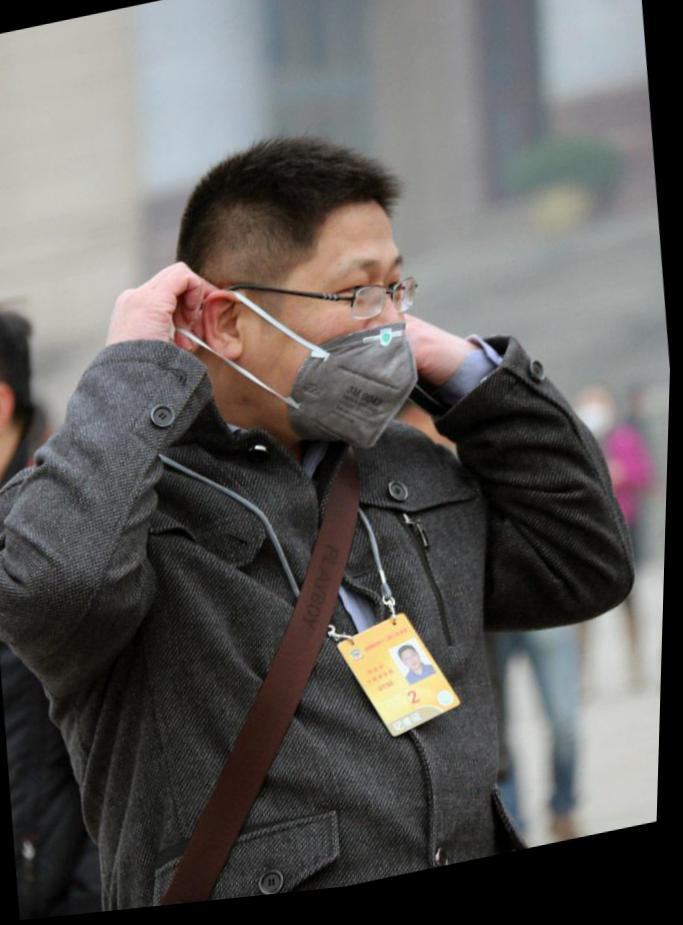WRONG: (265, 220, 438, 479)
